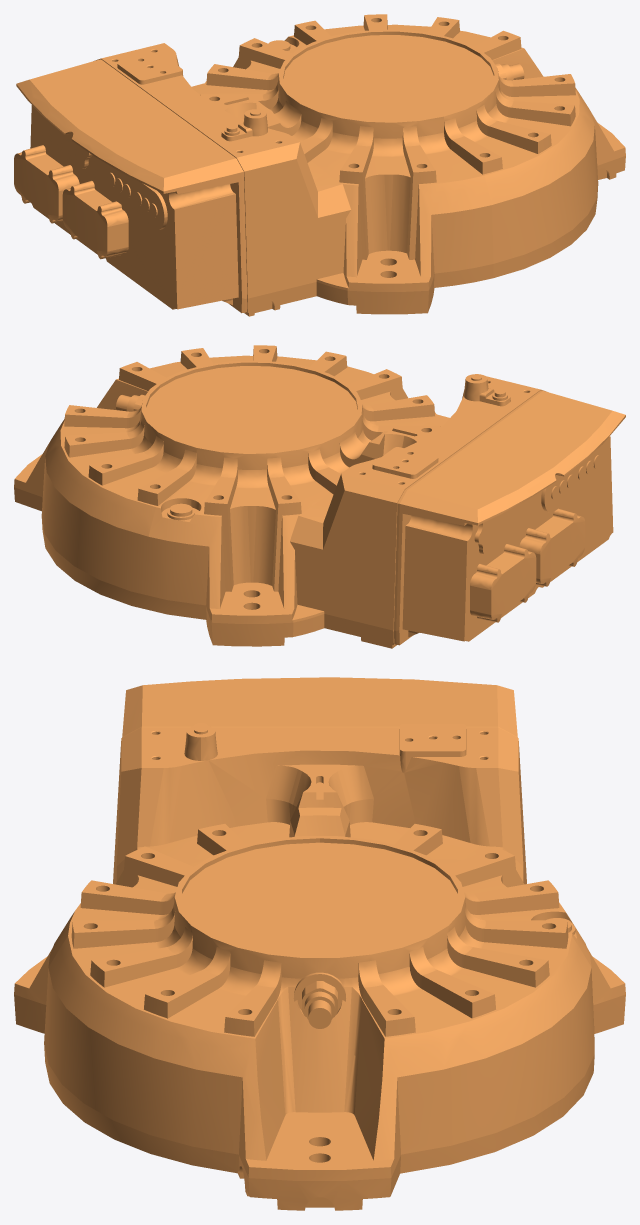
3 views of the same model, one above another, from view 1: azimuth 30°, elevation 25°; view 2: azimuth 150°, elevation 25°; view 3: azimuth 270°, elevation 25° (orthographic). The views are drawn at different scales.
Parts seen in each view (by area): view 1: mesh_0; view 2: mesh_0; view 3: mesh_0.
Boxes of the visible parts, x1=… form: mesh_0: x1=14, y1=14, x2=625, y2=316; mesh_0: x1=14, y1=345, x2=625, y2=648; mesh_0: x1=14, y1=677, x2=625, y2=1210.
Size of the model in its own units: 0.6752 by 0.213 by 0.5145.
